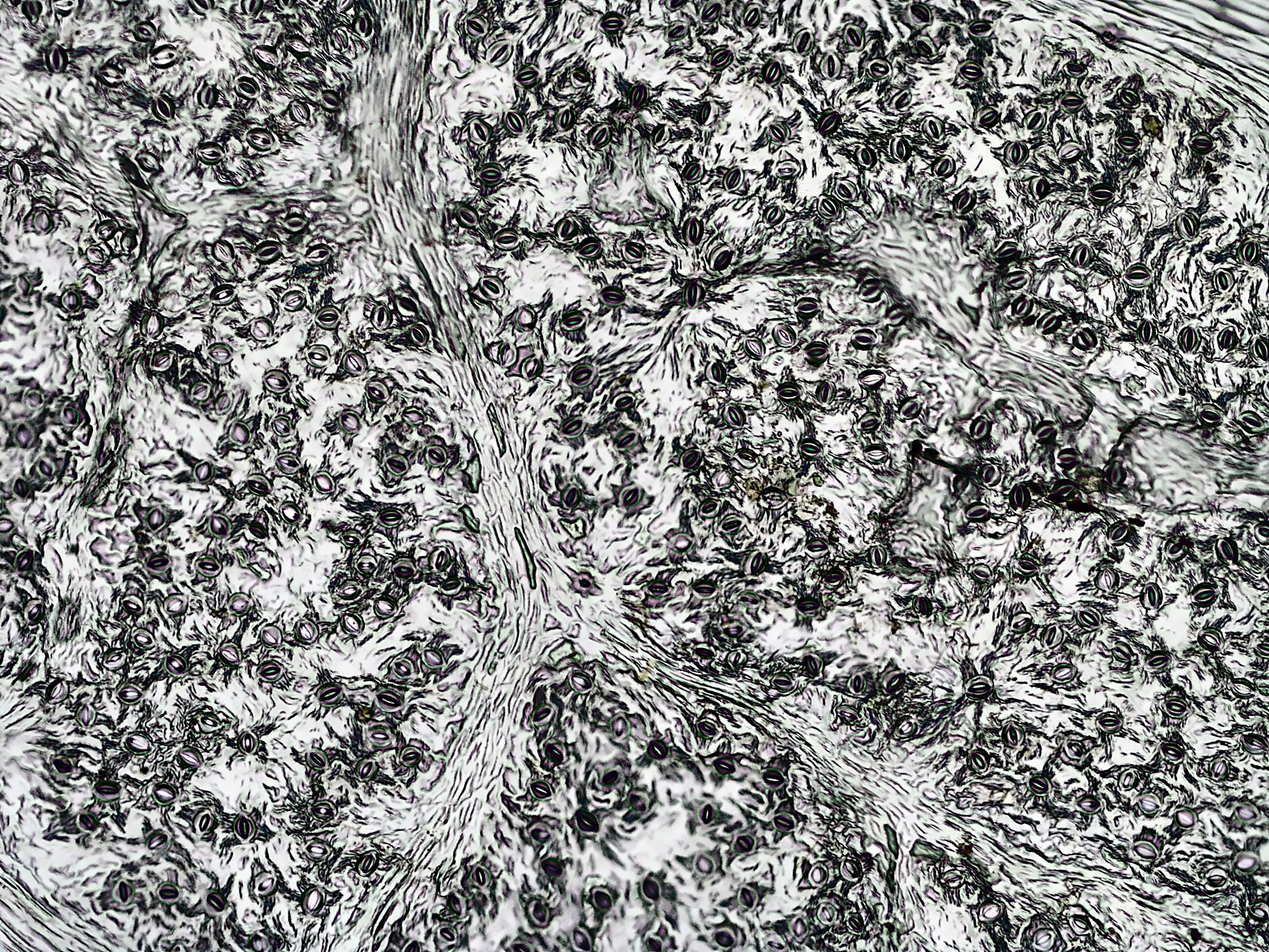stomata: (240, 124, 283, 155), (297, 888, 333, 922), (736, 545, 769, 580), (91, 60, 132, 88), (304, 796, 342, 823), (204, 281, 241, 308), (42, 42, 71, 76), (120, 729, 156, 756), (570, 809, 607, 835), (566, 360, 598, 390), (480, 38, 514, 66), (705, 44, 739, 72), (1192, 402, 1228, 428), (247, 314, 278, 344), (948, 187, 980, 216), (230, 812, 262, 841), (131, 147, 163, 176), (1174, 210, 1202, 243), (70, 702, 104, 729), (847, 327, 883, 352), (1183, 130, 1220, 154), (597, 9, 631, 35), (254, 658, 288, 684), (908, 593, 937, 623), (325, 25, 354, 55), (679, 278, 707, 309), (194, 80, 222, 111), (1127, 839, 1163, 863), (176, 745, 208, 772), (768, 808, 801, 834), (1083, 181, 1120, 204), (1227, 676, 1261, 701), (1175, 324, 1204, 353), (719, 165, 748, 194), (522, 898, 552, 926), (465, 115, 493, 145), (96, 643, 131, 667), (1161, 532, 1188, 563), (150, 90, 176, 122), (283, 34, 315, 60), (1157, 696, 1191, 720), (192, 141, 226, 165), (692, 852, 720, 881), (484, 340, 512, 369), (864, 545, 894, 572), (1034, 311, 1064, 338), (857, 277, 887, 304), (816, 50, 843, 80), (1055, 91, 1090, 114), (830, 701, 862, 726), (993, 271, 1033, 291), (677, 159, 709, 184), (899, 391, 923, 424), (191, 555, 227, 577), (1019, 106, 1047, 134), (770, 321, 798, 349), (44, 679, 72, 707), (1068, 242, 1095, 271), (842, 23, 871, 50), (290, 618, 319, 645), (140, 311, 167, 340), (859, 444, 893, 467), (143, 552, 177, 575), (1102, 460, 1128, 490), (142, 829, 172, 855), (149, 780, 179, 806), (280, 498, 306, 528), (406, 320, 432, 350), (635, 579, 672, 600), (537, 855, 568, 880), (1196, 627, 1227, 652), (962, 676, 993, 701), (1214, 323, 1239, 354), (1122, 262, 1153, 287), (231, 75, 262, 100), (1009, 553, 1041, 577), (812, 193, 844, 217), (679, 216, 703, 248), (45, 754, 77, 778), (313, 681, 345, 705), (490, 228, 523, 251), (251, 43, 278, 71), (628, 790, 654, 819), (790, 27, 816, 56), (110, 877, 136, 906), (1002, 139, 1027, 169), (886, 134, 911, 164), (524, 705, 558, 727), (381, 454, 415, 476), (302, 242, 333, 266), (586, 887, 618, 910), (475, 273, 507, 296), (190, 709, 222, 732), (989, 241, 1024, 262), (1092, 566, 1119, 593), (758, 201, 785, 228), (1231, 848, 1257, 876), (1138, 581, 1164, 609), (967, 415, 993, 443), (929, 154, 957, 180), (235, 730, 261, 758), (257, 622, 285, 648), (227, 418, 253, 446), (1029, 926, 1058, 951), (249, 870, 278, 895), (203, 511, 232, 536), (852, 143, 876, 173), (886, 88, 916, 112), (278, 288, 308, 312), (90, 780, 124, 801), (820, 567, 851, 590), (831, 178, 862, 201), (152, 881, 183, 904), (337, 611, 368, 634), (637, 875, 663, 902), (551, 217, 578, 243), (765, 119, 792, 145), (623, 83, 649, 110), (428, 546, 455, 572), (21, 598, 47, 625), (318, 88, 345, 114), (1054, 448, 1082, 473), (1071, 328, 1099, 353), (704, 360, 729, 388), (351, 757, 379, 782), (13, 421, 41, 446), (314, 304, 342, 329), (567, 927, 596, 951), (966, 560, 995, 584), (576, 238, 605, 262), (1155, 742, 1185, 765), (1237, 410, 1267, 433), (511, 303, 534, 333), (127, 630, 157, 653), (1093, 711, 1124, 733), (1047, 479, 1078, 501), (921, 112, 943, 143), (261, 370, 292, 392), (454, 202, 480, 228), (1134, 319, 1159, 346), (814, 110, 841, 135), (551, 105, 576, 132), (757, 60, 782, 87), (912, 34, 939, 59), (163, 651, 188, 678), (864, 56, 892, 80), (224, 592, 256, 613), (300, 345, 332, 366), (21, 385, 49, 409), (1216, 536, 1239, 565), (1246, 334, 1269, 363), (710, 243, 733, 272), (473, 163, 502, 186), (500, 108, 523, 137), (160, 593, 189, 616), (312, 473, 341, 496), (147, 45, 177, 67), (523, 821, 554, 842), (732, 447, 763, 468), (558, 417, 589, 438), (1105, 519, 1131, 544), (721, 404, 746, 430), (469, 862, 494, 888), (367, 379, 393, 404), (286, 98, 311, 124), (938, 868, 965, 892), (845, 673, 872, 697), (1237, 238, 1261, 265), (118, 228, 142, 255), (352, 14, 376, 41), (1065, 912, 1093, 935), (1057, 142, 1085, 165), (365, 724, 393, 747), (889, 717, 921, 737), (566, 670, 595, 692), (1238, 732, 1267, 754), (800, 341, 829, 363), (528, 780, 558, 801), (757, 486, 787, 507), (962, 501, 992, 522), (213, 645, 243, 666), (599, 285, 632, 304), (1033, 420, 1058, 445), (304, 747, 329, 772), (371, 597, 396, 622), (724, 647, 750, 671), (613, 426, 639, 450), (459, 15, 486, 38), (354, 850, 377, 877), (376, 689, 403, 712), (255, 239, 282, 262), (556, 310, 587, 330), (608, 714, 630, 742), (1009, 483, 1031, 511), (974, 106, 1002, 128), (965, 17, 993, 39), (7, 158, 29, 186), (129, 20, 157, 42), (35, 459, 64, 480), (595, 768, 625, 788), (1192, 582, 1216, 607), (1075, 606, 1100, 630), (1049, 662, 1079, 682), (1001, 721, 1025, 746), (610, 390, 635, 414), (519, 355, 544, 379), (650, 124, 674, 149), (908, 2, 933, 26), (115, 685, 145, 705), (192, 459, 216, 484), (697, 800, 720, 826), (678, 448, 704, 471), (203, 892, 226, 918), (77, 810, 100, 836), (1041, 622, 1063, 649), (814, 380, 836, 407), (774, 381, 801, 403), (956, 60, 984, 81), (371, 303, 392, 331), (976, 900, 1000, 924), (742, 336, 766, 360), (740, 2, 764, 26), (841, 857, 864, 882), (732, 833, 757, 856), (980, 463, 1003, 488), (120, 594, 145, 617), (12, 549, 35, 574), (796, 438, 823, 459), (699, 0, 726, 21), (246, 473, 273, 494), (735, 590, 768, 607), (1074, 794, 1102, 814), (884, 668, 904, 696), (242, 522, 270, 542), (280, 213, 308, 233), (964, 749, 988, 772), (1212, 269, 1236, 292), (1117, 86, 1141, 109), (587, 124, 611, 147), (437, 924, 461, 947), (192, 809, 215, 833), (143, 507, 167, 530), (21, 0, 44, 24), (710, 757, 739, 776), (1113, 132, 1142, 151), (543, 742, 568, 764), (617, 486, 642, 508), (1009, 296, 1034, 318), (58, 289, 80, 314), (1146, 651, 1172, 672), (688, 579, 714, 600), (718, 514, 744, 535), (856, 411, 882, 432), (467, 287, 493, 308), (420, 647, 446, 668), (344, 349, 365, 375), (765, 673, 797, 690), (1231, 804, 1261, 822), (696, 498, 723, 518), (793, 296, 820, 316), (204, 343, 231, 363), (1061, 59, 1089, 78), (336, 527, 364, 546), (401, 405, 429, 424), (273, 453, 301, 472), (183, 382, 211, 401), (804, 535, 827, 558), (807, 863, 829, 887), (622, 240, 644, 264), (212, 239, 236, 261), (950, 474, 975, 495), (883, 304, 908, 325), (444, 891, 469, 912), (338, 410, 363, 431), (150, 350, 175, 371), (1108, 642, 1134, 662), (857, 369, 884, 388), (771, 162, 801, 179), (1174, 807, 1197, 829), (1116, 768, 1138, 791), (1029, 176, 1051, 199), (271, 416, 294, 438), (695, 102, 716, 126), (664, 21, 688, 42), (376, 508, 404, 526), (1204, 869, 1229, 889), (395, 295, 420, 315), (82, 246, 108, 265), (512, 68, 541, 85), (759, 768, 786, 786), (423, 446, 450, 464), (816, 902, 838, 924), (645, 739, 667, 761), (710, 928, 734, 948), (695, 719, 720, 738), (566, 69, 591, 88), (718, 622, 744, 640), (439, 579, 468, 595), (335, 582, 364, 598), (398, 746, 420, 767), (737, 885, 757, 908), (803, 652, 823, 675), (711, 470, 734, 490), (305, 843, 332, 860), (846, 912, 865, 936), (249, 928, 268, 952), (354, 557, 379, 575), (93, 220, 115, 240), (1027, 775, 1050, 794), (1063, 740, 1086, 759), (1008, 612, 1031, 631), (390, 658, 414, 676), (59, 404, 83, 422), (690, 642, 715, 659), (560, 486, 580, 507), (12, 274, 32, 295), (215, 390, 234, 412), (793, 596, 819, 612), (1251, 520, 1269, 543), (1135, 794, 1159, 811), (1211, 758, 1229, 780), (239, 0, 266, 14), (32, 210, 49, 232), (791, 915, 807, 938), (1248, 901, 1268, 919), (188, 0, 218, 12), (393, 562, 415, 578), (672, 536, 694, 551), (53, 0, 75, 14), (0, 515, 14, 536), (13, 478, 28, 497)
